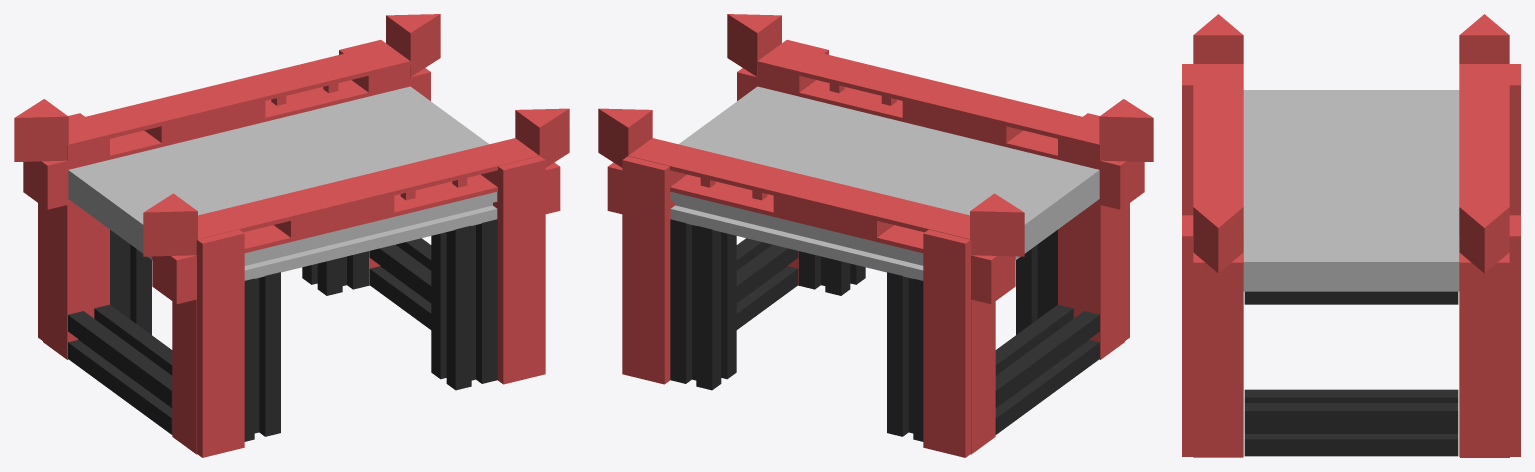
The model's file is converyor2 1.fbx.
3 views of the same model, side by side, from view 1: azimuth 30°, elevation 25°; view 2: azimuth 150°, elevation 25°; view 3: azimuth 270°, elevation 25° (orthographic). The views are drawn at different scales.
Parts seen in each view (by area): view 1: Cube.021, Cube.013, Cube.014, Cube.015, Cube.001, Cube.002, Cube.023, Cube.016, Cube.011, Cube.022, Cube.007, Cube.008 (+14 smaller); view 2: Cube.021, Cube.012, Cube.011, Cube.018, Cube.002, Cube.001, Cube.023, Cube.017, Cube.014, Cube.022, Cube.008, Cube.007 (+14 smaller); view 3: Cube.021, Cube.022, Cube.009, Cube.010, Cube.001, Cube.002, Cube.013, Cube.023, Cube.012, Triangle, Triangle.001, Cube.005 (+5 smaller).
Part boxes in pixels (x1=…): Cube.021: x1=68, y1=86, x2=497, y2=280; Cube.013: x1=481, y1=156, x2=545, y2=384; Cube.014: x1=196, y1=229, x2=244, y2=457; Cube.015: x1=431, y1=219, x2=497, y2=390; Cube.001: x1=67, y1=43, x2=410, y2=148; Cube.002: x1=196, y1=138, x2=539, y2=243; Cube.023: x1=68, y1=304, x2=172, y2=434; Cube.016: x1=244, y1=272, x2=280, y2=441; Cube.011: x1=38, y1=113, x2=109, y2=342; Cube.022: x1=369, y1=238, x2=431, y2=329; Cube.007: x1=43, y1=160, x2=67, y2=359; Cube.008: x1=172, y1=255, x2=196, y2=454; Cube.021: x1=670, y1=86, x2=1099, y2=280; Cube.012: x1=622, y1=156, x2=686, y2=384; Cube.011: x1=923, y1=229, x2=971, y2=457; Cube.018: x1=670, y1=219, x2=736, y2=390; Cube.002: x1=757, y1=43, x2=1100, y2=148; Cube.001: x1=628, y1=138, x2=971, y2=243; Cube.023: x1=995, y1=304, x2=1099, y2=434; Cube.017: x1=887, y1=272, x2=923, y2=441; Cube.014: x1=1058, y1=113, x2=1129, y2=342; Cube.022: x1=736, y1=238, x2=798, y2=329; Cube.008: x1=1100, y1=160, x2=1124, y2=359; Cube.007: x1=971, y1=255, x2=995, y2=454; Cube.021: x1=1243, y1=90, x2=1459, y2=291; Cube.022: x1=1244, y1=389, x2=1458, y2=456; Cube.009: x1=1193, y1=252, x2=1243, y2=457; Cube.010: x1=1460, y1=252, x2=1509, y2=457; Cube.001: x1=1459, y1=64, x2=1509, y2=240; Cube.002: x1=1193, y1=64, x2=1243, y2=240; Cube.013: x1=1182, y1=215, x2=1243, y2=456; Cube.023: x1=1244, y1=291, x2=1458, y2=304; Cube.012: x1=1459, y1=215, x2=1520, y2=456; Triangle: x1=1459, y1=207, x2=1509, y2=273; Triangle.001: x1=1193, y1=207, x2=1243, y2=273; Cube.005: x1=1193, y1=253, x2=1243, y2=307.
Size of the model in its own units: 448 by 244 by 299.
